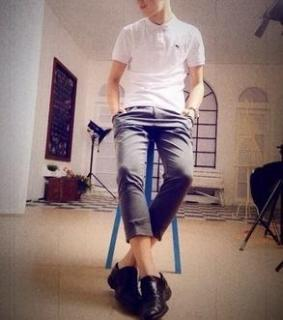short sleeve top: (111, 15, 205, 116)
trousers: (112, 104, 194, 242)
